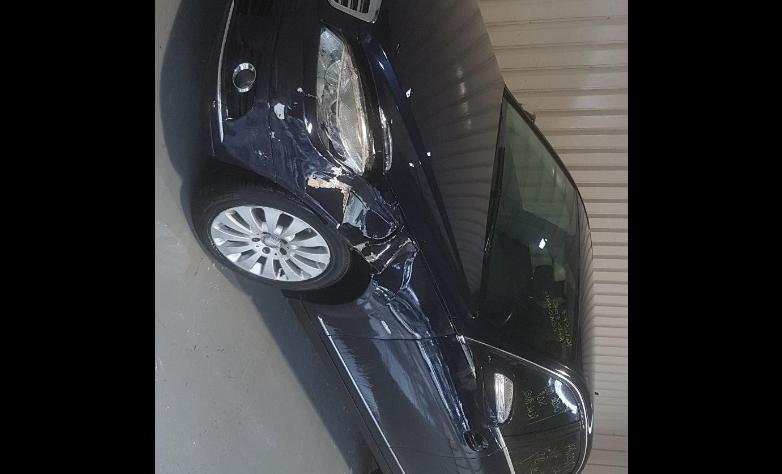Broken part: (316, 23, 368, 176)
Dent: (294, 161, 424, 334), (241, 105, 306, 181)
Paint chip: (253, 146, 269, 158), (273, 103, 284, 120), (268, 131, 280, 142), (265, 104, 271, 111)
